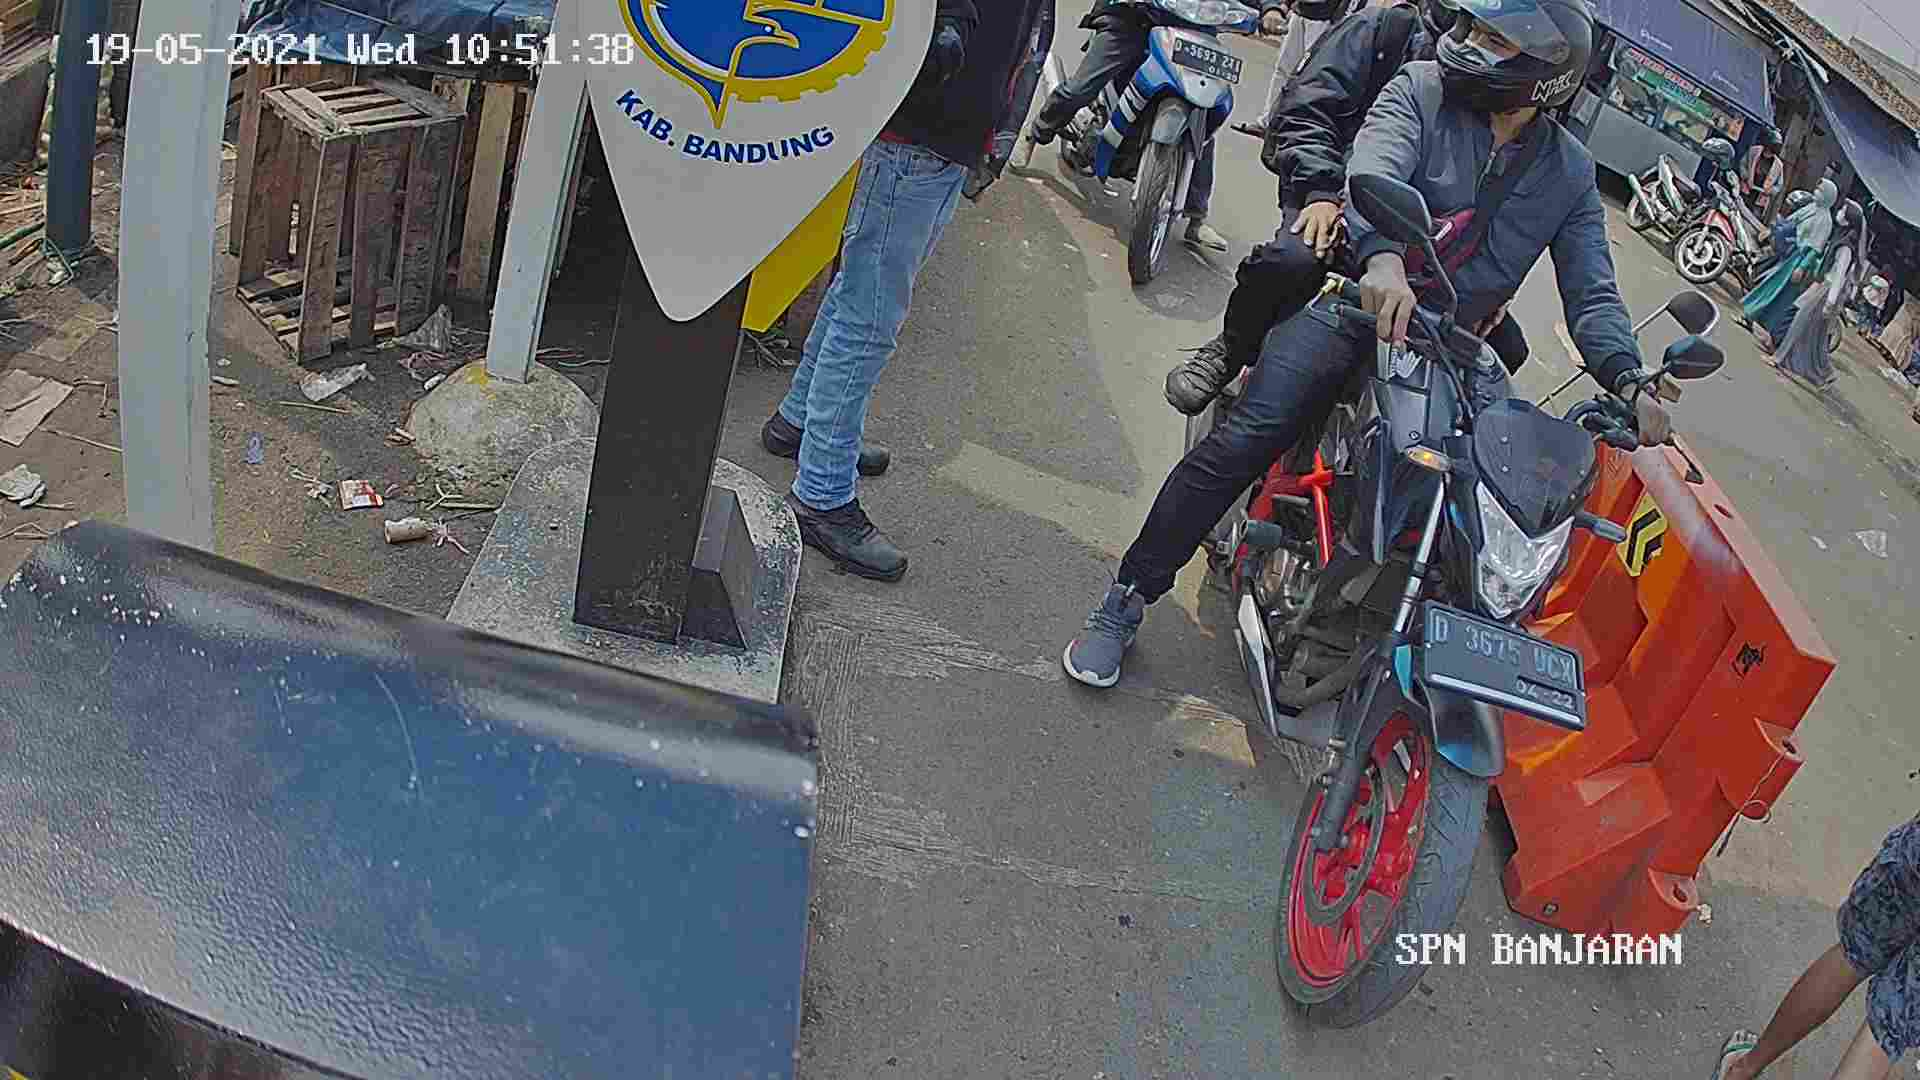motor: (1261, 282, 1668, 1023)
